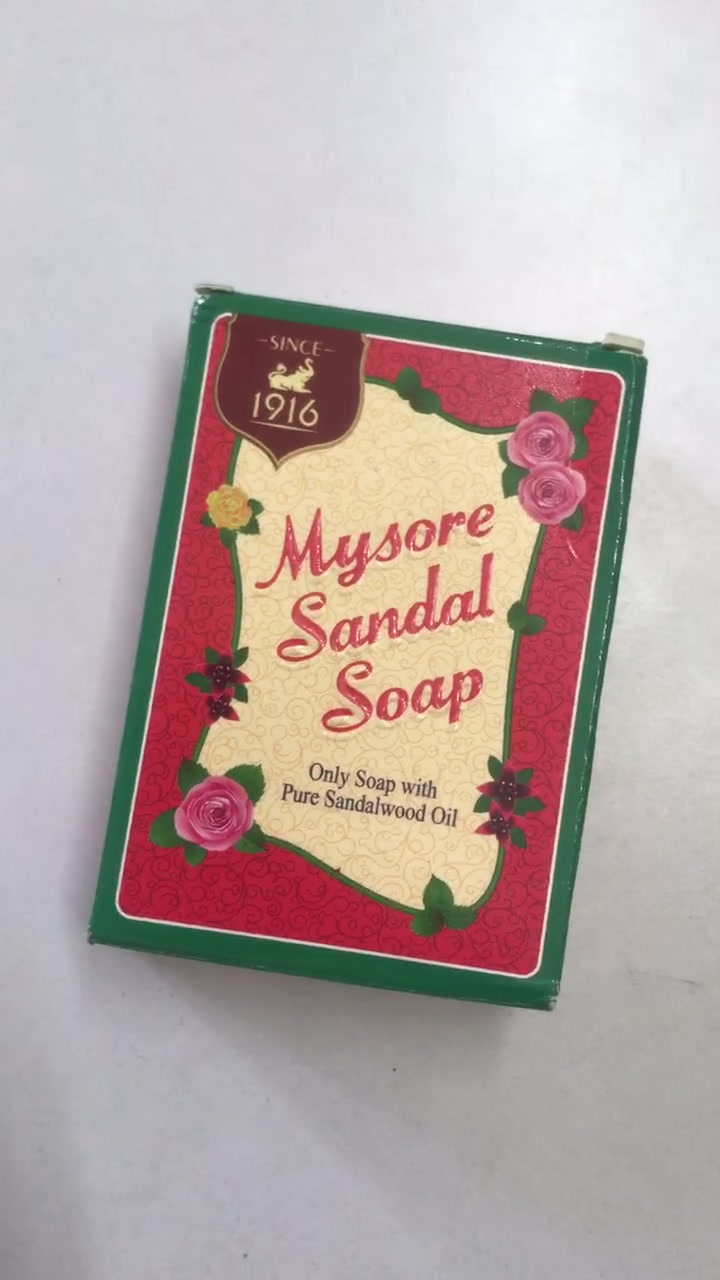mysore sandal soap: (87, 292, 645, 1016)
